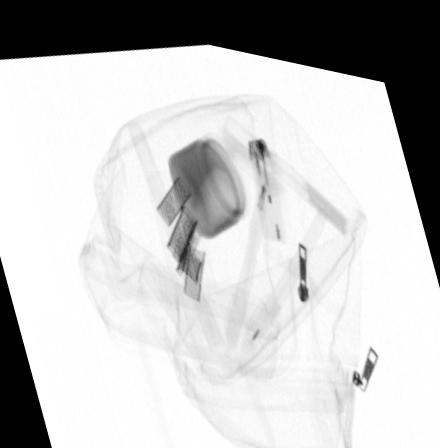Lighter: (248, 124, 288, 230)
